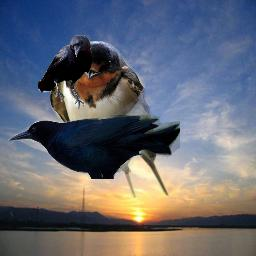Crow: (8, 115, 180, 179), (38, 35, 92, 110)
Swallow: (50, 41, 169, 198)
